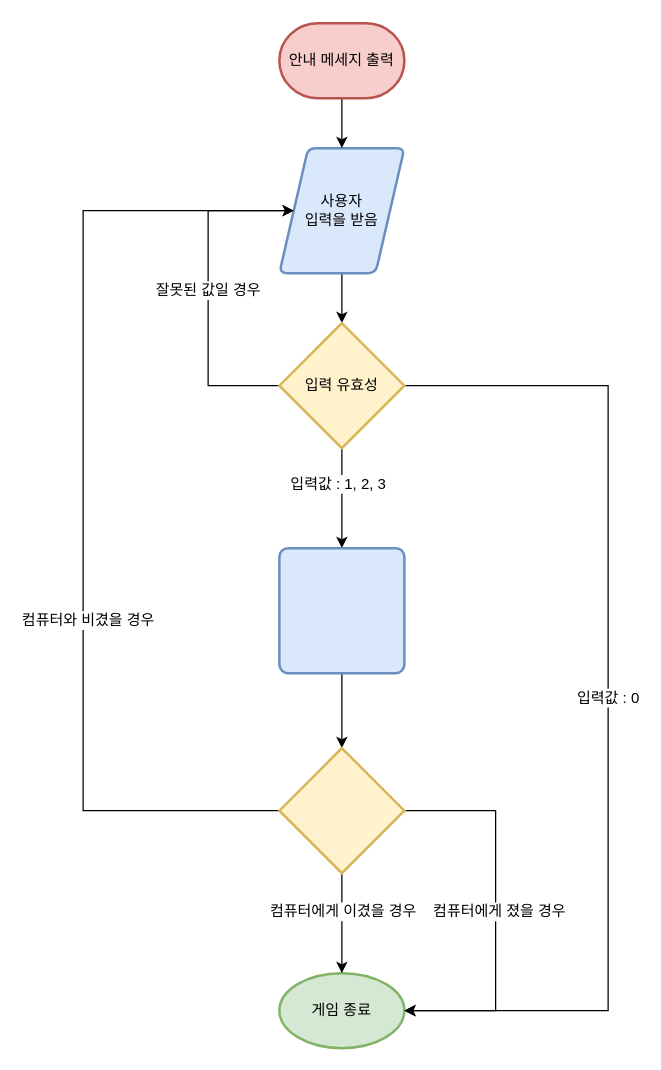
This 661x1070 diagram has some shape labels left out. The centre of each missing label's shape, as x and y in pixels:
결과 판정: [341,810]
컴퓨터 입력값 생성: [341,610]
